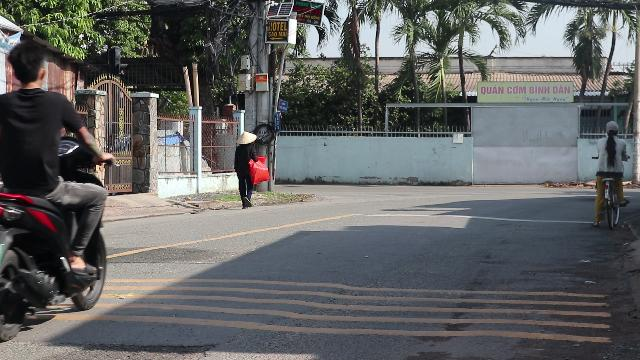motorcyclist: (0, 40, 114, 334)
nohelmet: (4, 42, 51, 90)
